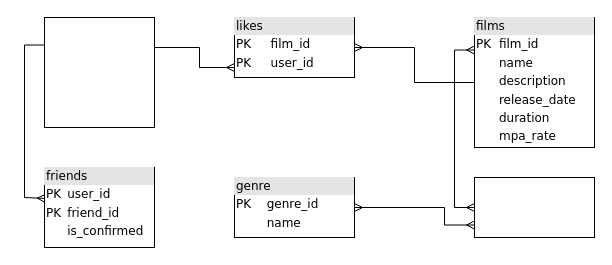
Some shapes in this 612 by 265 pixel diagram are drawn without their labels. The shapes that lost their labels are listed below. From the top down, each one's centre as x and y in pixels, then its label:
the point at 99,72: users PK user_id login email name birthday
the point at 534,207: film_genre PK film_id PK genre_id
